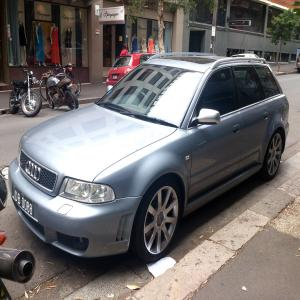Vehicle-registration-plate: (15, 185, 35, 218)
